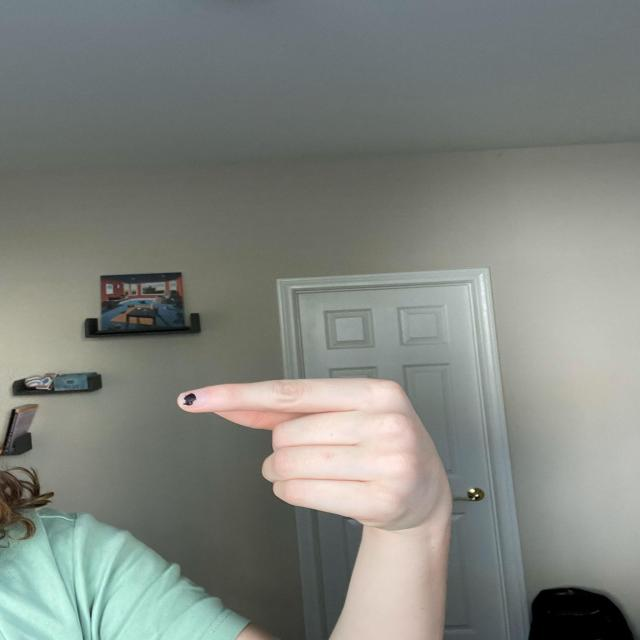G: (172, 376, 458, 532)
